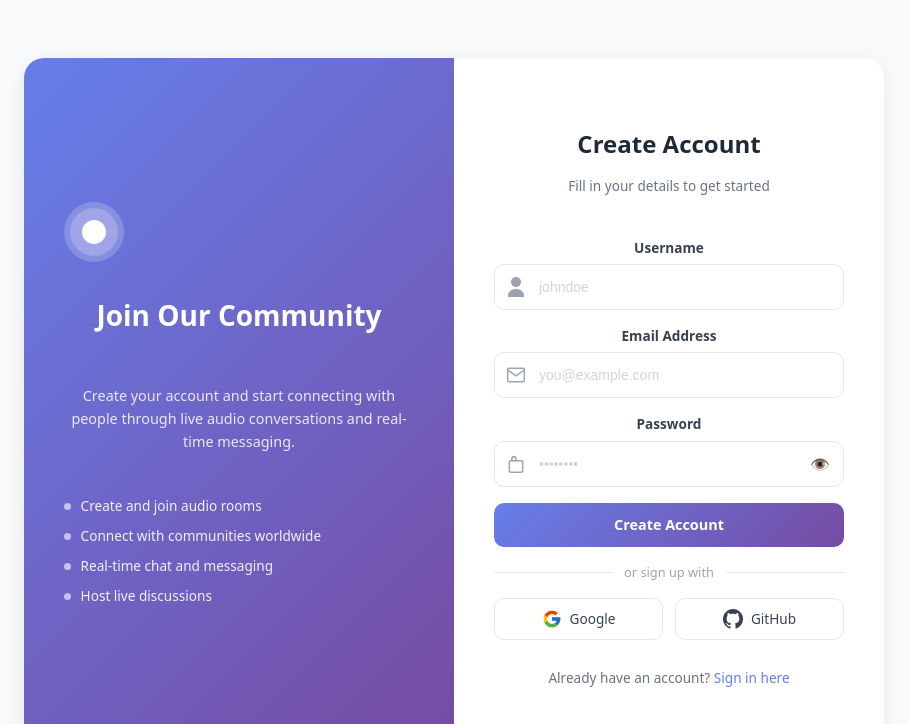
Test: <signup /> › testing password validity
Type "hello" into the field labelled "Username".
click(669, 287); type("hello")  # box [494, 264, 844, 310]
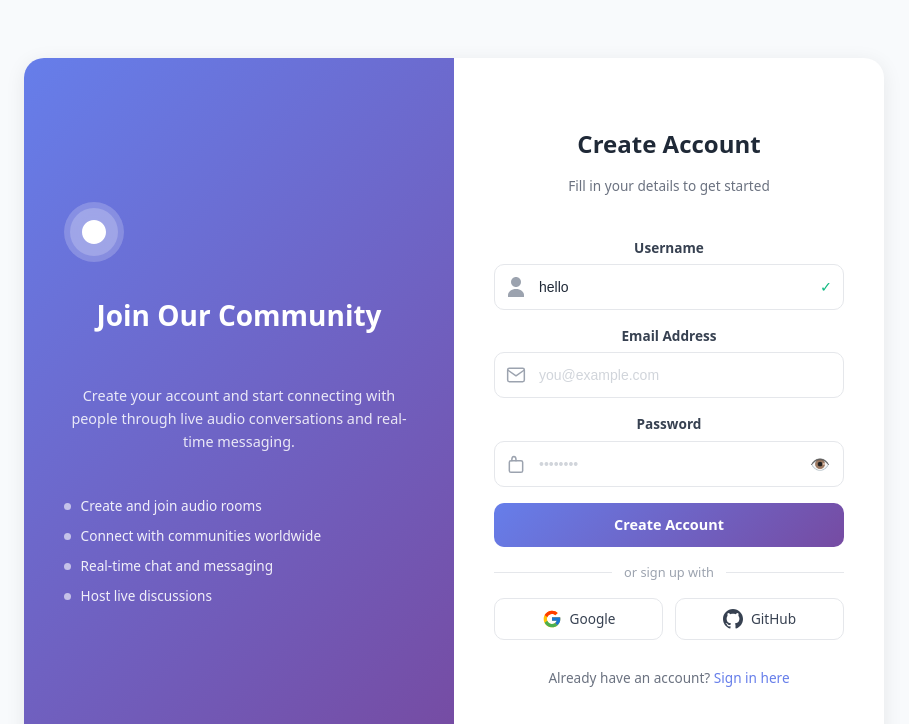
Type "nkelechi21@gmail.com" into the field labelled "Email Address".
click(669, 375); type("nkelechi21@gmail.com")  # box [494, 352, 844, 398]
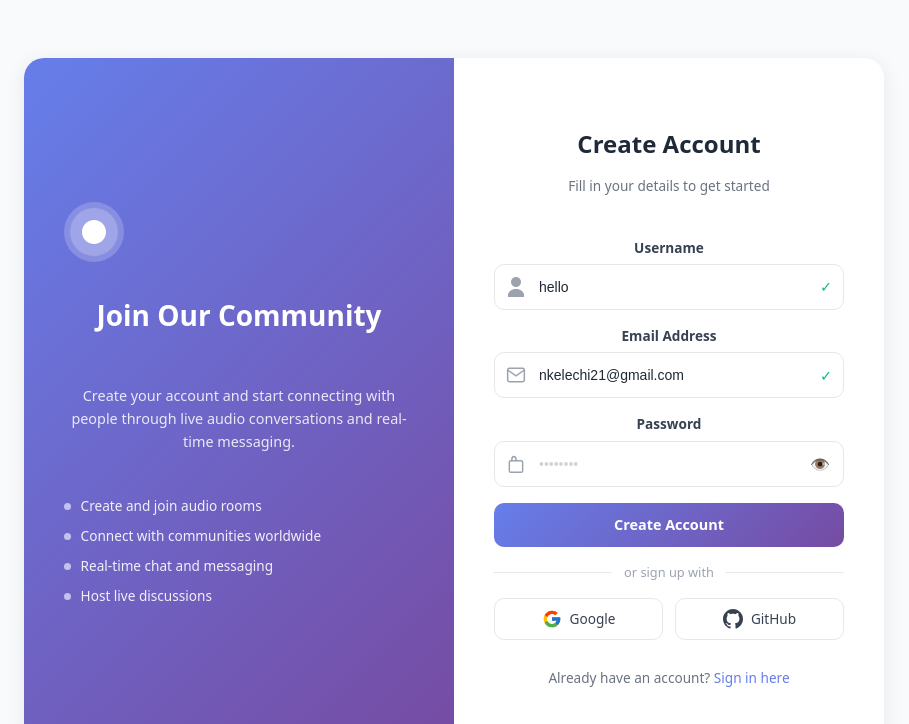
Type "Poi" into the password field labelled "Password".
click(669, 464); type("Poi")  # box [494, 441, 844, 487]
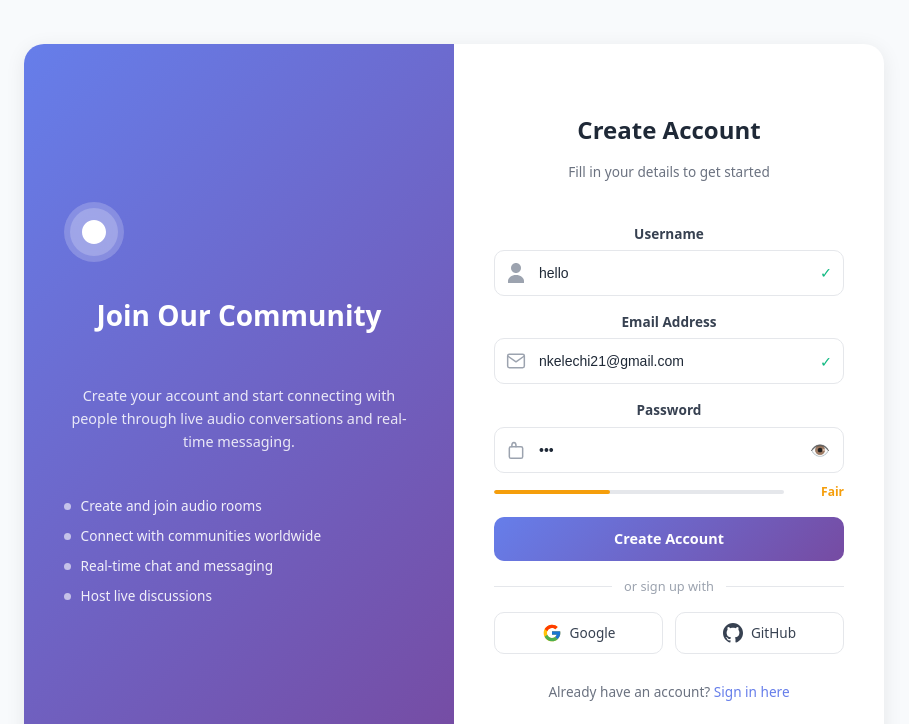
Click the button with test id "createaccount".
click(669, 539)  # box [494, 517, 844, 561]
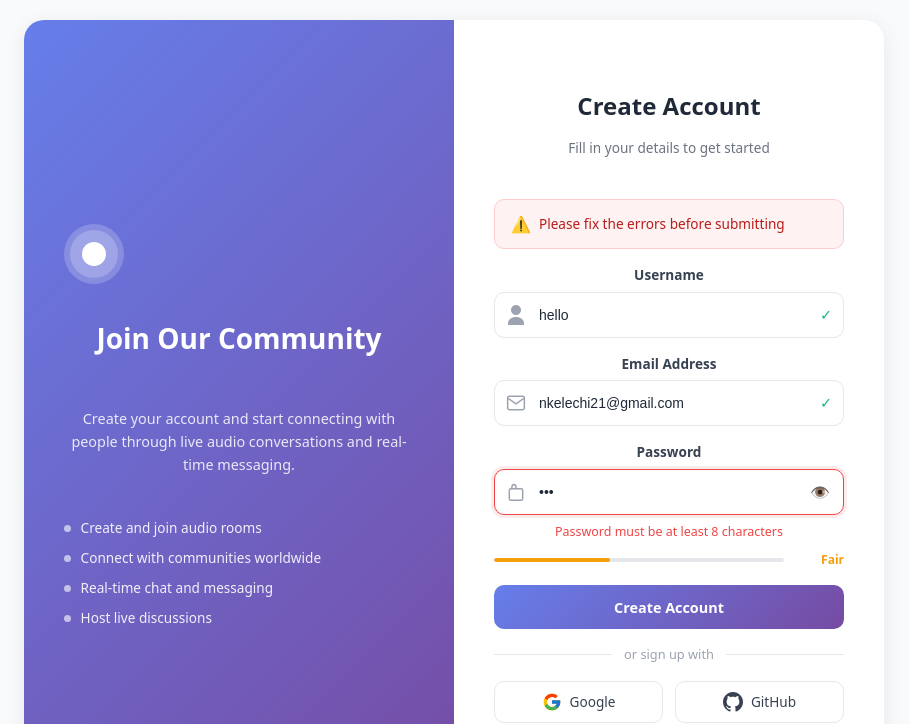
Expected: the text with test id "passwrd" reads "Password must be at least 8 characters", [555, 523, 783, 540]
